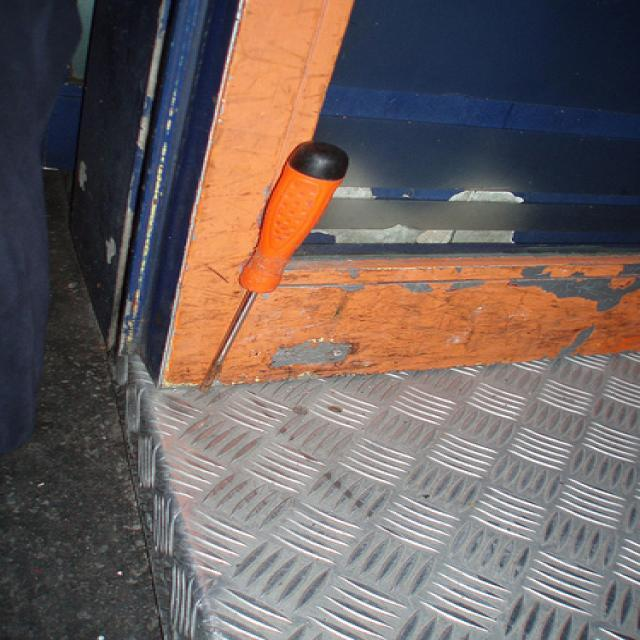screwdriver: (176, 130, 354, 398)
